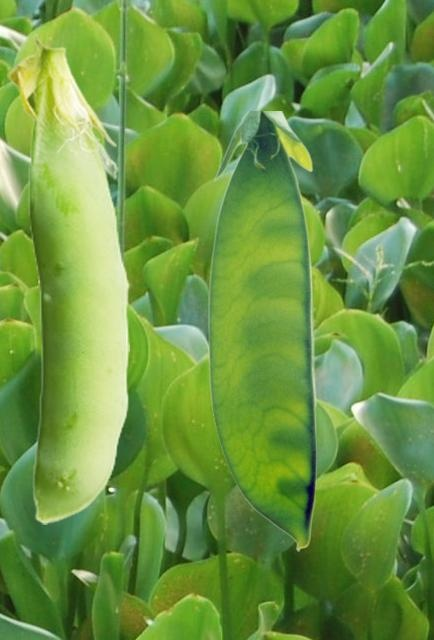pea: (7, 33, 128, 523), (207, 111, 315, 550)
